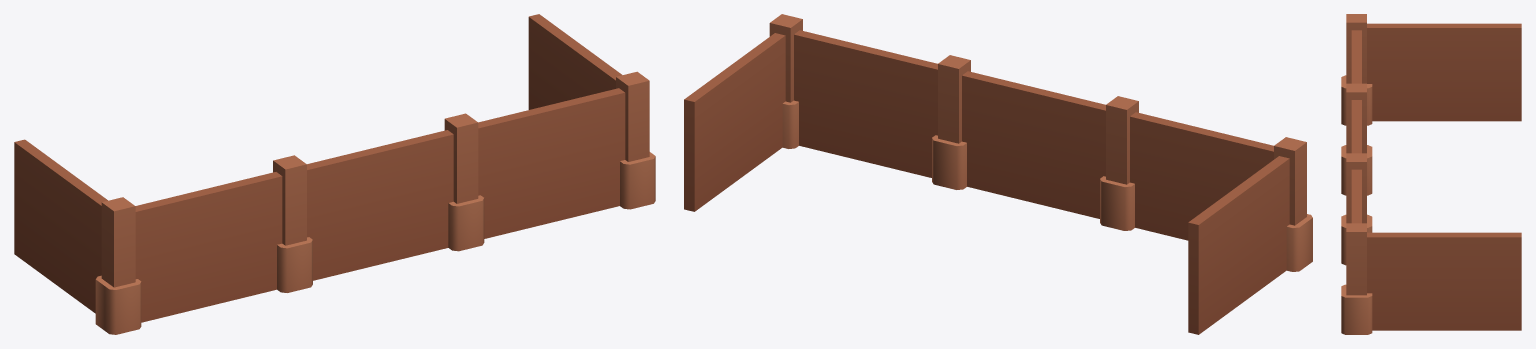
Rendered from fence-1x3.glb.
The picture shows the model from 3 angles, left to right: view 1: azimuth 30°, elevation 25°; view 2: azimuth 150°, elevation 25°; view 3: azimuth 270°, elevation 25°; orthographic projection. The views are drawn at different scales.
Visible parts, largest first — view 1: fence-1x3; view 2: fence-1x3; view 3: fence-1x3.
Part boxes in pixels (<box>): fence-1x3: <box>14,14,655,334</box>; fence-1x3: <box>684,14,1312,334</box>; fence-1x3: <box>1341,14,1521,334</box>.
Size of the model in its own units: 1.28 by 0.27 by 0.4375.
